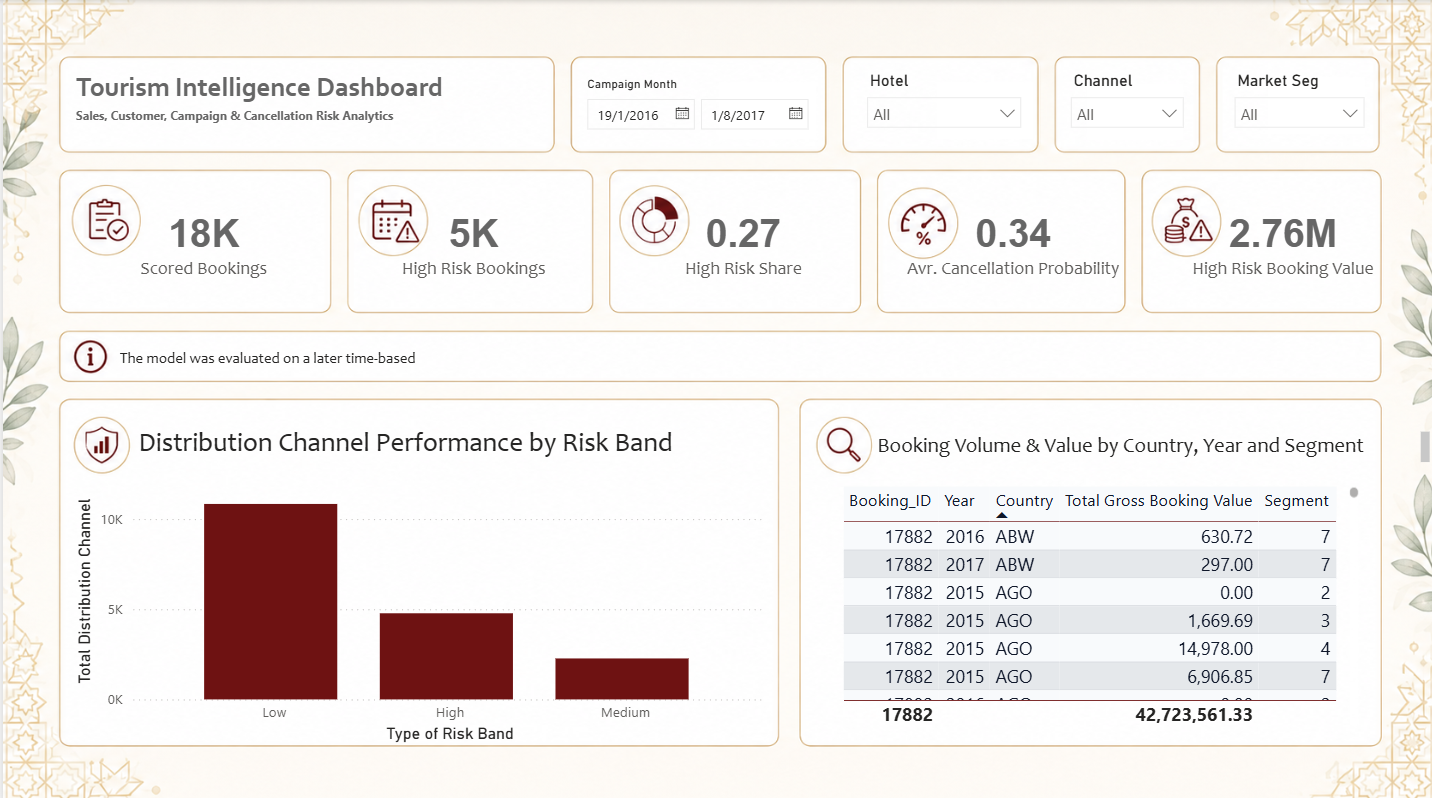

This screenshot's page, from the dashboard's own definition file:
{"tool":"powerbi","page":{"name":"Cancellation Risk Monitor","canvas":[1280,720],"ordinal":2},"visuals":[{"type":"textbox","box":[1130.2,69.8,86,50],"z":0},{"type":"textbox","box":[833.7,73.3,86,50],"z":1000},{"type":"textbox","box":[639.5,73.3,86,50],"z":2000},{"type":"textbox","box":[968.6,74.4,86,50],"z":3000},{"type":"columnChart","fields":{"Category":["cancellation_predictions_holdout.risk_band"],"Y":["CountNonNull(cancellation_predictions_holdout.distribution_channel)"]},"box":[60.5,417.4,626.7,251.2],"z":4000},{"type":"tableEx","fields":{"Values":["cancellation_predictions_holdout.booking_id","fact_bookings.arrival_date.Variation.Date Hierarchy.Year","fact_bookings.country","Sum(fact_bookings.gross_booking_value)","fact_bookings.segment_key"]},"box":[715.1,430.2,510.5,225.6],"z":5000},{"type":"cardVisual","fields":{"Data":["Booking measures.Scored Bookings","Booking measures.High Risk Bookings","Booking measures.High Risk Share","Booking measures.Average Cancellation Probability","Booking measures.High Risk Booking Value"]},"box":[46.5,155.8,1233.7,126.7],"z":6000},{"type":"slicer","fields":{"Values":["fact_campaign_funnel_synthetic.campaign_month"]},"box":[509.3,64,220.9,59.3],"z":7000},{"type":"slicer","fields":{"Values":["dim_hotel.hotel"]},"box":[761.6,58.1,158.1,80.2],"z":8000},{"type":"slicer","fields":{"Values":["dim_channel.distribution_channel"]},"box":[943,58.1,120.9,80.2],"z":9000},{"type":"slicer","fields":{"Values":["dim_segment.market_segment"]},"box":[1089.5,58.1,145.3,70.9],"z":10000},{"type":"textbox","box":[60,58,426,62],"z":11000},{"type":"textbox","box":[98.8,304.7,300,39.5],"z":12000},{"type":"textbox","box":[116.7,375,503.3,55],"z":13000},{"type":"textbox","box":[776.2,381.2,503.8,42.5],"z":13001}]}

Visuals, with their boxes in screenshot pixels (x1, y1, x2, y2), scaled from the page's 1280x720 canvas onto the 1432x798 screenshot:
textbox: (left=1264, top=77, right=1361, bottom=133)
textbox: (left=933, top=81, right=1029, bottom=137)
textbox: (left=715, top=81, right=812, bottom=137)
textbox: (left=1084, top=82, right=1180, bottom=138)
columnChart - cancellation_predictions_holdout.risk_band x CountNonNull(cancellation_predictions_holdout.distribution_channel): (left=68, top=463, right=769, bottom=741)
tableEx - cancellation_predictions_holdout.booking_id x fact_bookings.arrival_date.Variation.Date Hierarchy.Year: (left=800, top=477, right=1371, bottom=727)
cardVisual - Booking measures.Scored Bookings x Booking measures.High Risk Bookings: (left=52, top=173, right=1431, bottom=313)
slicer - fact_campaign_funnel_synthetic.campaign_month: (left=570, top=71, right=817, bottom=137)
slicer - dim_hotel.hotel: (left=852, top=64, right=1029, bottom=153)
slicer - dim_channel.distribution_channel: (left=1055, top=64, right=1190, bottom=153)
slicer - dim_segment.market_segment: (left=1219, top=64, right=1381, bottom=143)
textbox: (left=67, top=64, right=544, bottom=133)
textbox: (left=111, top=338, right=446, bottom=381)
textbox: (left=131, top=416, right=694, bottom=477)
textbox: (left=868, top=422, right=1431, bottom=470)
